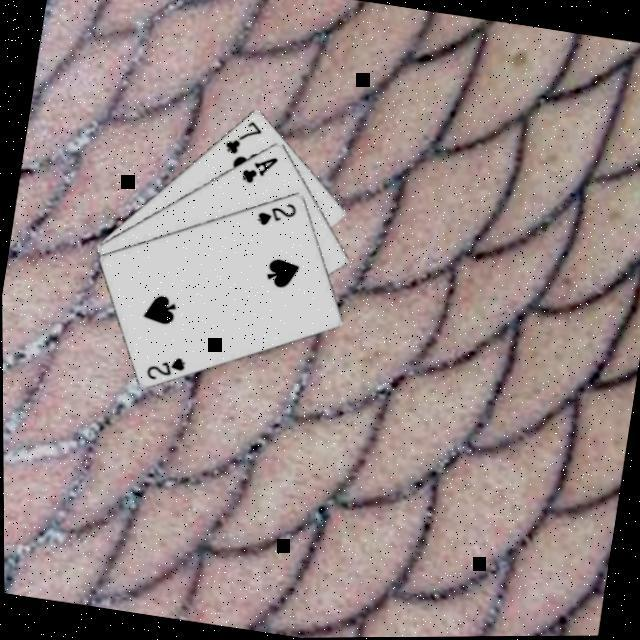2S: (252, 196, 300, 234), (140, 350, 188, 388)
7C: (220, 114, 266, 162)
AC: (236, 150, 281, 191)
